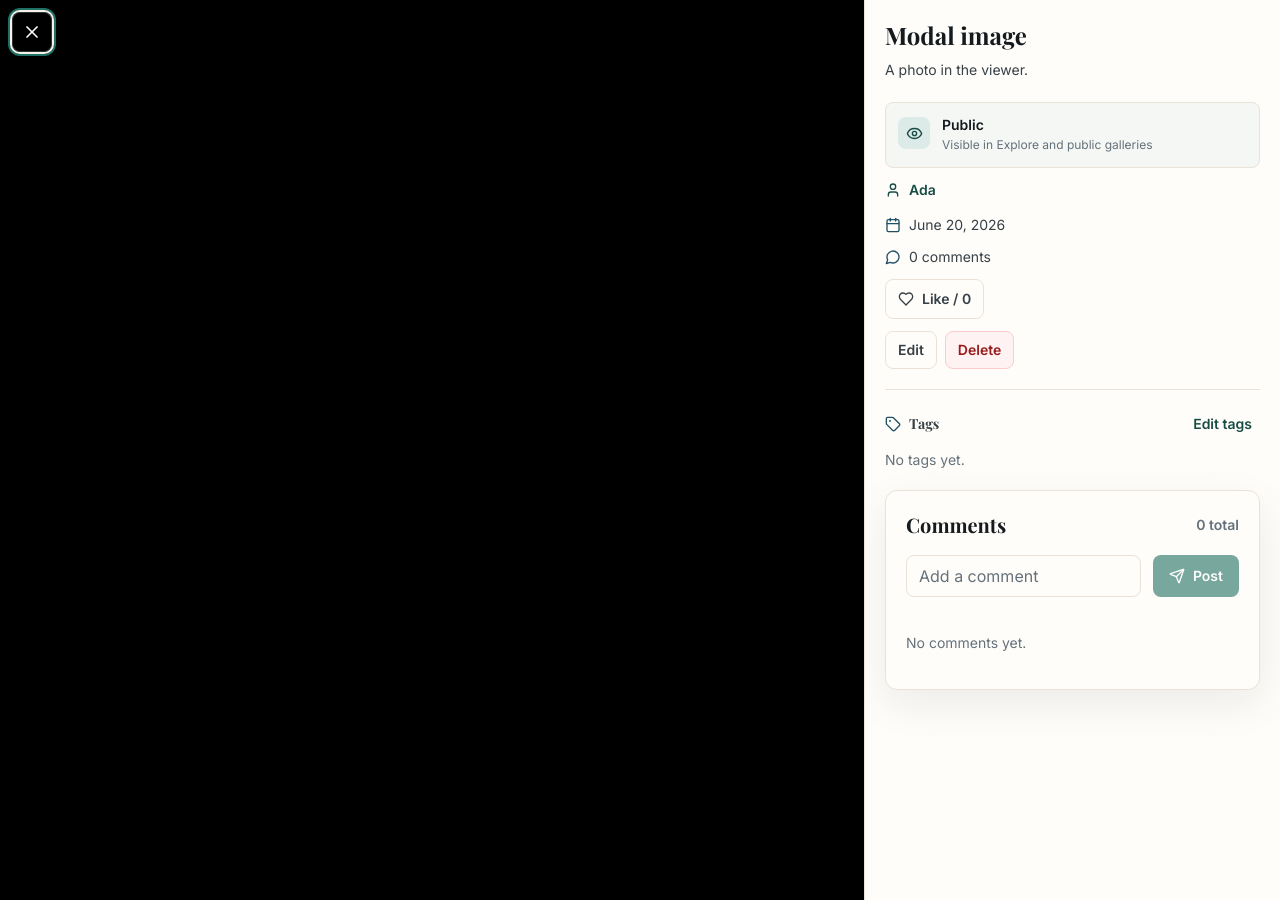
PhotoViewerModal › lets a logged-in user post a comment inside the modal
Type "Beautiful frame" into the field with placeholder "Add a comment".
click(1023, 576); type("Beautiful frame")  # box x1=906 y1=555 x2=1141 y2=597
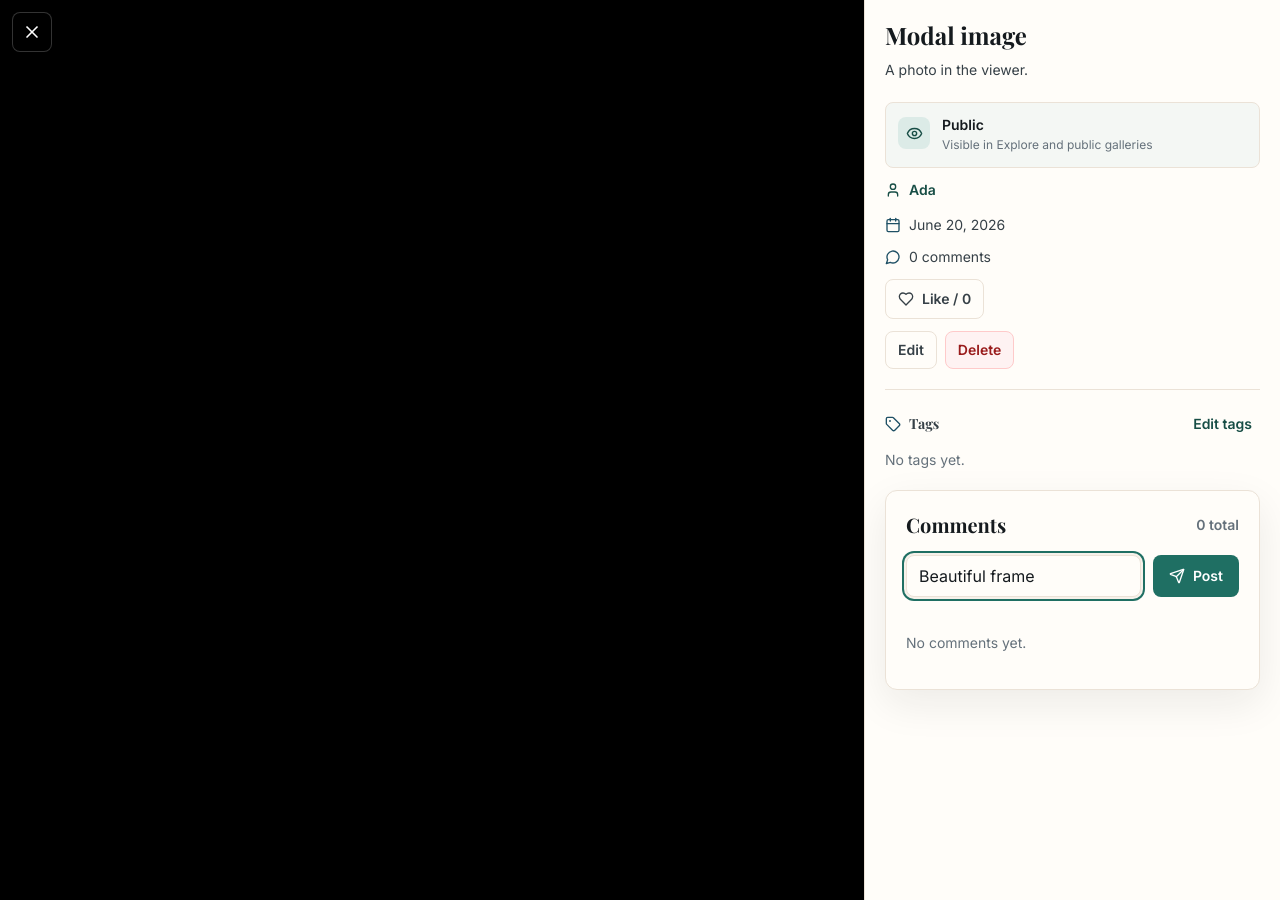
Click the button "Post".
click(1196, 576)  # box x1=1153 y1=555 x2=1239 y2=597
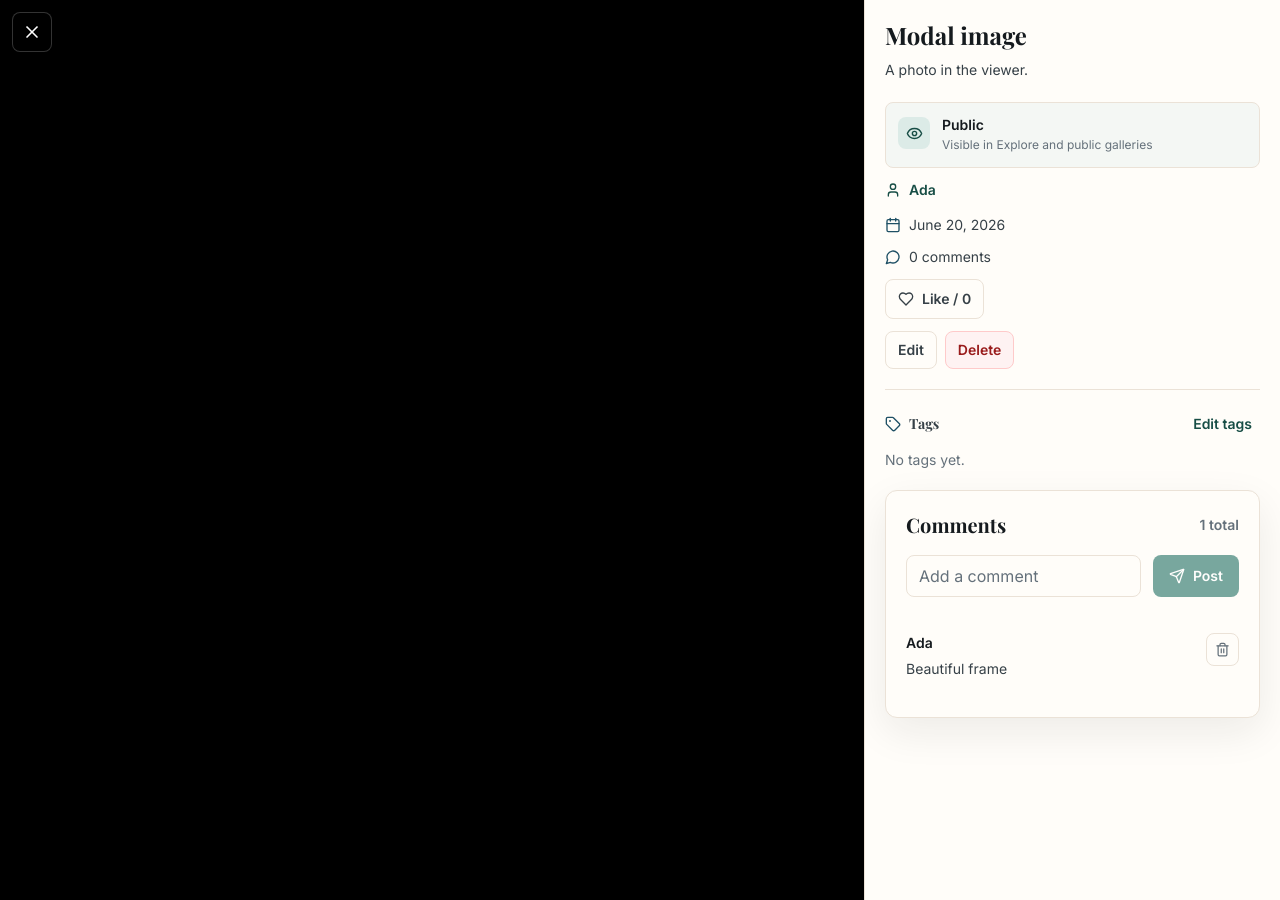
Result: the text "Beautiful frame" is shown at x1=906 y1=657 x2=1007 y2=681
